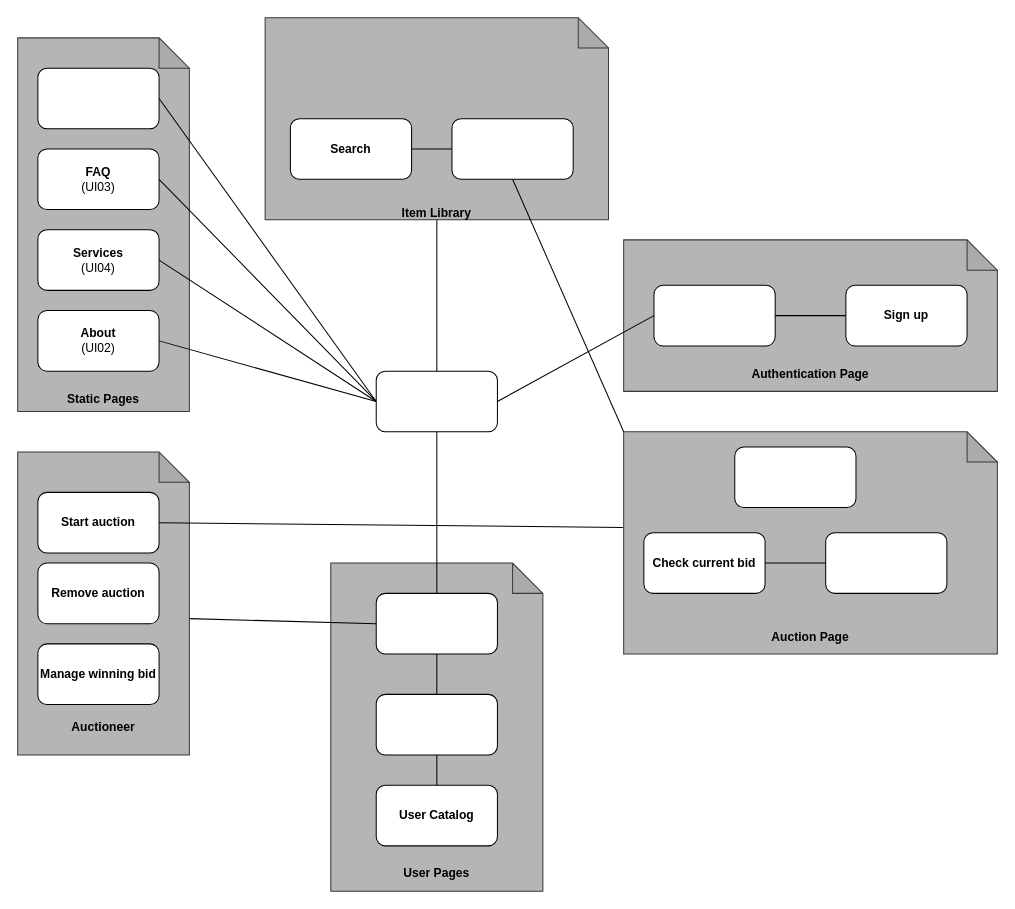
Image size: 1015x909. Some labels were removed from this diagram. Here are the shapes that lost their labels. From the top down, the centre of each, then its label:
At pixel 98 98: "Contact Us (UI05)".
At pixel 512 148: "Item".
At pixel 714 315: "Sign in".
At pixel 436 401: "Homepage (UI01)".
At pixel 795 477: "Item description".
At pixel 886 562: "Make a new bid".
At pixel 436 623: "User Profile".
At pixel 436 724: "User Reviews".
